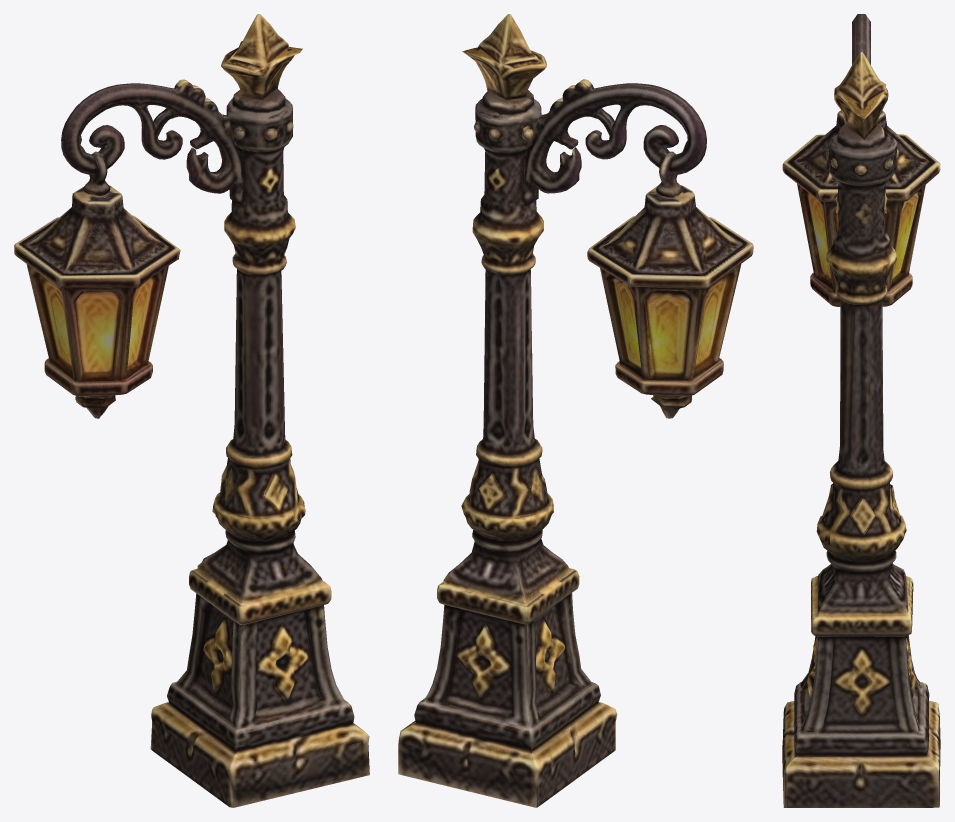
File: street_lantern.glb
3 renders of one model, left to right at view 1: azimuth 30°, elevation 25°; view 2: azimuth 150°, elevation 25°; view 3: azimuth 270°, elevation 25°, orthographic. The views are drawn at different scales.
Parts seen in each view (by area): view 1: Mesh_0; view 2: Mesh_0; view 3: Mesh_0.
Part boxes in pixels (box(x1,y1,x2,y2)): Mesh_0: box(14, 14, 369, 807); Mesh_0: box(398, 14, 753, 807); Mesh_0: box(782, 14, 940, 807).
Size of the model in its own units: 0.3921 by 0.9512 by 0.189.
Materials: 1 (1 with a texture image).
